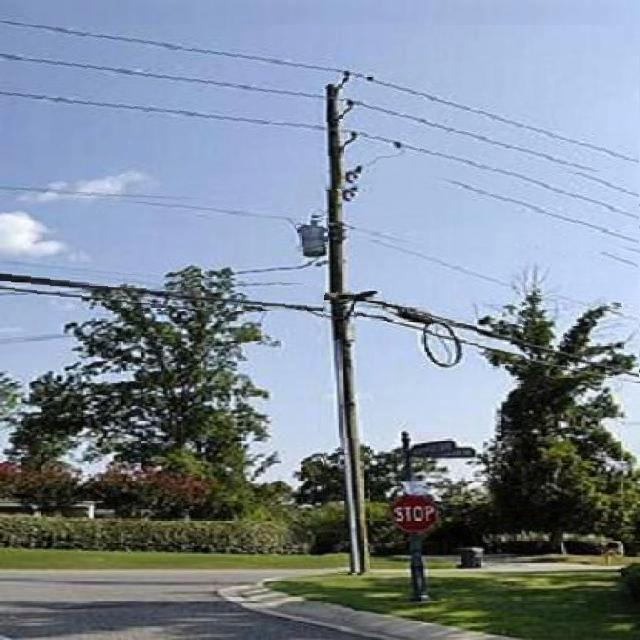pole: (321, 101, 370, 574)
transformer: (296, 218, 328, 260)
wire: (0, 94, 639, 249), (3, 25, 639, 177), (2, 51, 630, 199), (363, 291, 640, 378), (355, 239, 634, 319), (358, 308, 639, 383), (2, 193, 323, 228), (2, 269, 318, 302), (4, 286, 311, 311)
